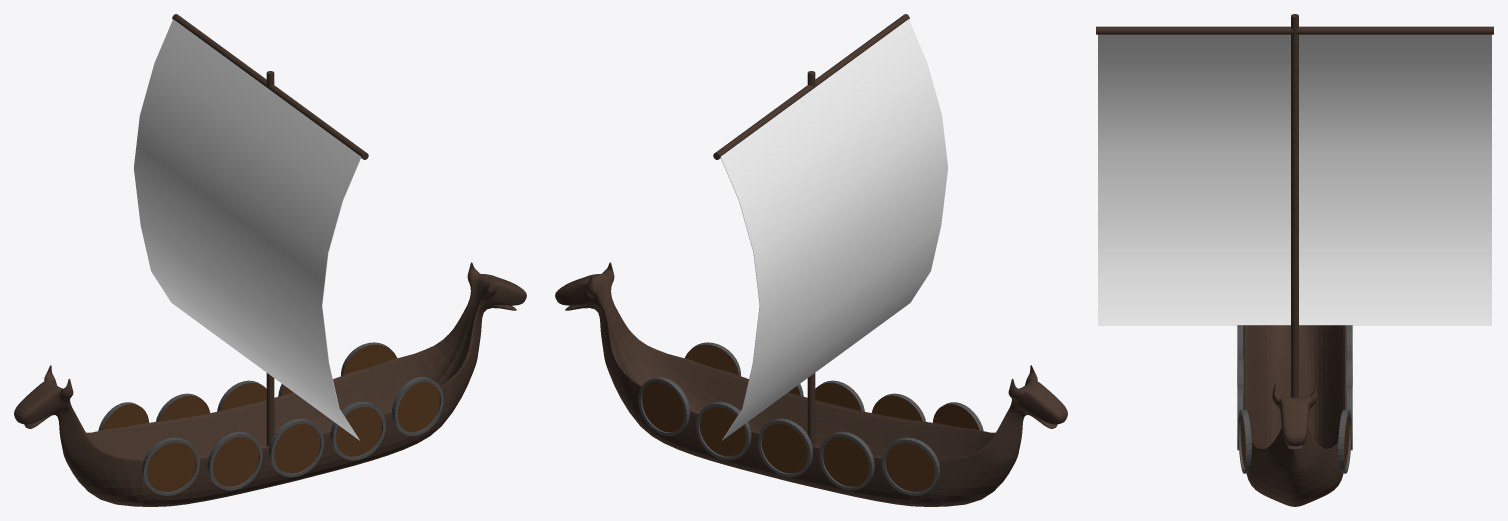
Rendered from drakkar.fbx.
The picture shows the model from 3 angles, left to right: view 1: azimuth 30°, elevation 25°; view 2: azimuth 150°, elevation 25°; view 3: azimuth 270°, elevation 25°; orthographic projection. The views are drawn at different scales.
Visible parts, largest first — view 1: Plane, coque, shield, shield.002, shield.003, mast.001, mast; view 2: Plane, coque, shield, shield.002, shield.003, mast.001, mast; view 3: Plane, coque, mast.001, mast, shield, shield.002.
Boxes of the visible parts, x1,y1,x2,y2 form: Plane: (134, 19, 361, 440); coque: (14, 262, 526, 506); shield: (98, 342, 443, 495); shield.002: (156, 384, 385, 490); shield.003: (217, 380, 324, 477); mast.001: (172, 14, 368, 159); mast: (266, 71, 274, 446); Plane: (720, 19, 947, 440); coque: (555, 262, 1067, 506); shield: (638, 342, 983, 495); shield.002: (696, 384, 925, 490); shield.003: (757, 380, 864, 477); mast.001: (713, 14, 909, 159); mast: (807, 71, 815, 446); Plane: (1098, 34, 1491, 325); coque: (1243, 325, 1346, 506); mast.001: (1096, 26, 1493, 34); mast: (1291, 14, 1298, 397); shield: (1238, 325, 1351, 473); shield.002: (1237, 325, 1352, 450).
Bounding box in the file's own units: 1182 × 910 × 766.
